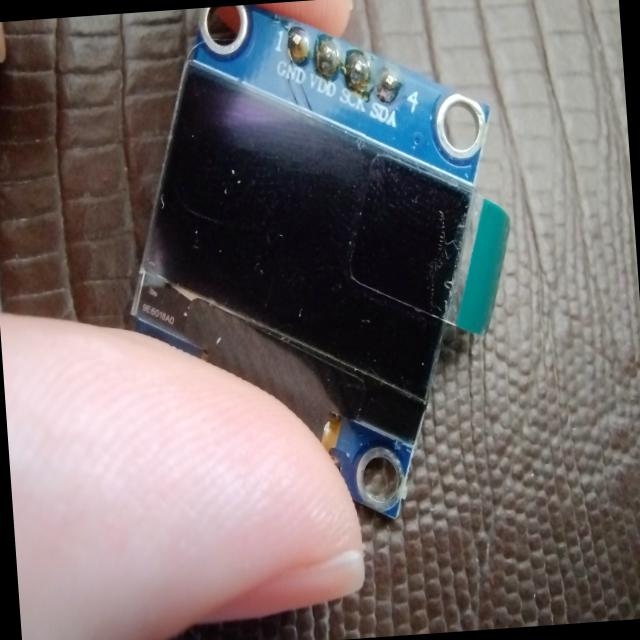oled: (106, 0, 533, 530)
